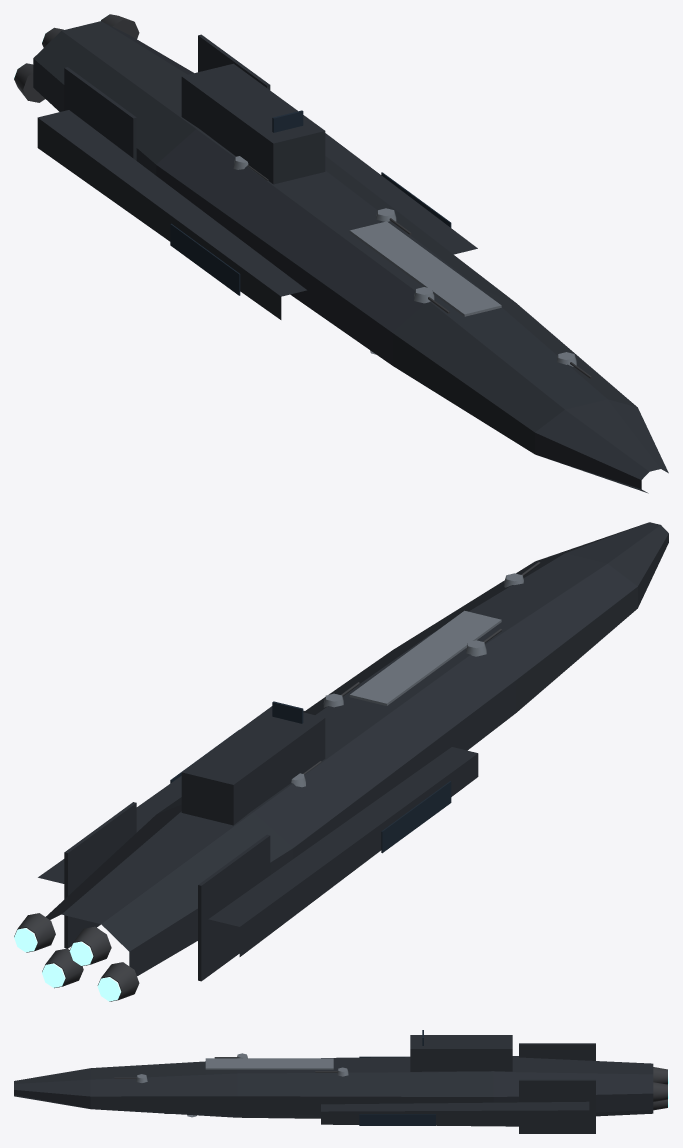
File: space_ship_cruiser_mk4.glb
The picture shows the model from 3 angles, top to bottom: view 1: azimuth 30°, elevation 25°; view 2: azimuth 150°, elevation 25°; view 3: azimuth 270°, elevation 25°; orthographic projection. The views are drawn at different scales.
Visible parts, largest first — view 1: body, hangar_r; view 2: body, hangar_r, engine_3, engine_0, engine_1, engine_2; view 3: body, hangar_l, engine_3, engine_1.
Boxes of the visible parts, x1,y1,x2,y2 form: body: (33,21,668,493); hangar_r: (170,223,240,295); body: (38,522,668,981); hangar_r: (381,781,451,853); engine_3: (14,913,55,952); engine_0: (97,962,139,1001); engine_1: (69,926,111,966); engine_2: (42,948,83,988); body: (14,1030,653,1133); hangar_l: (359,1114,435,1125); engine_3: (653,1082,668,1101); engine_1: (653,1067,668,1084).
Size of what is drawn, in the model's own units: 18.56 by 12.2 by 89.16.
